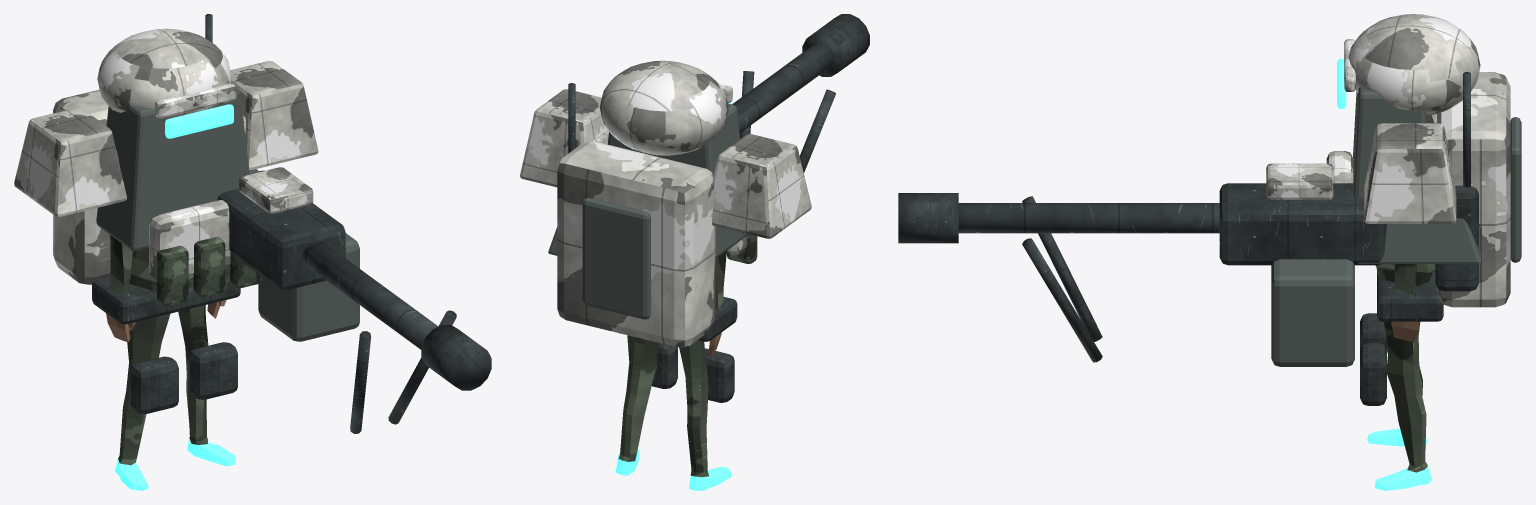
File: rifleman.glb
3 views of the same model, side by side, from view 1: azimuth 30°, elevation 25°; view 2: azimuth 150°, elevation 25°; view 3: azimuth 270°, elevation 25° (orthographic). The views are drawn at different scales.
Parts seen in each view (by area): view 1: rifleman_team_primary, rifleman_armor_dark, rifleman_gunner_armor, BaseHuman_baked, rifleman_team_accent, rifleman_fabric_dark, rifleman_glass_emissive; view 2: rifleman_team_primary, rifleman_armor_dark, rifleman_gunner_armor, BaseHuman_baked, rifleman_fabric_dark, rifleman_team_accent; view 3: rifleman_armor_dark, rifleman_team_primary, rifleman_gunner_armor, BaseHuman_baked, rifleman_team_accent.
Part boxes in pixels (x1,y1,x2,y2): rifleman_team_primary: (14, 28, 318, 284); rifleman_armor_dark: (92, 14, 491, 433); rifleman_gunner_armor: (96, 83, 359, 341); BaseHuman_baked: (106, 235, 235, 490); rifleman_team_accent: (149, 83, 313, 282); rifleman_fabric_dark: (157, 237, 261, 306); rifleman_glass_emissive: (165, 104, 233, 138); rifleman_team_primary: (520, 60, 811, 347); rifleman_armor_dark: (568, 14, 869, 402); rifleman_gunner_armor: (548, 103, 748, 319); BaseHuman_baked: (615, 156, 731, 490); rifleman_fabric_dark: (727, 234, 757, 263); rifleman_team_accent: (719, 84, 747, 255); rifleman_armor_dark: (898, 72, 1478, 405); rifleman_team_primary: (1348, 14, 1510, 307); rifleman_gunner_armor: (1271, 87, 1521, 366); BaseHuman_baked: (1367, 115, 1435, 490); rifleman_team_accent: (1266, 39, 1355, 199).
Size of the model in its own units: 0.9357 by 1.45 by 1.86.
Materials: 7 (4 with a texture image).
